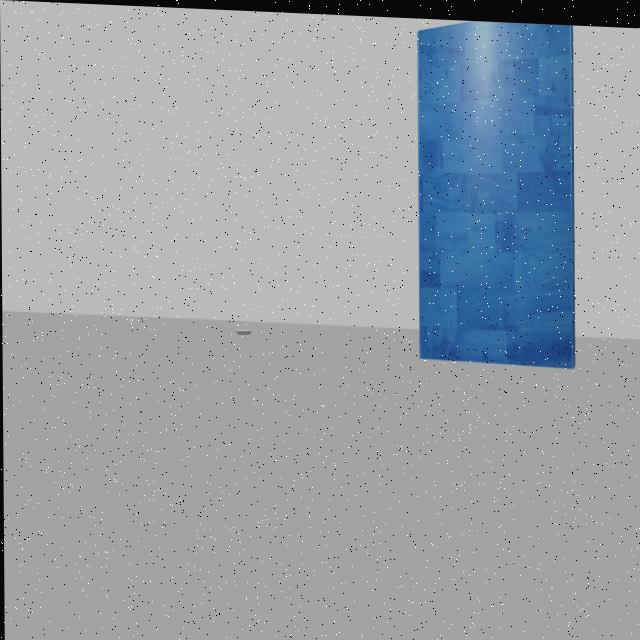bowl: (232, 318, 255, 342)
shelf: (405, 14, 588, 374)
